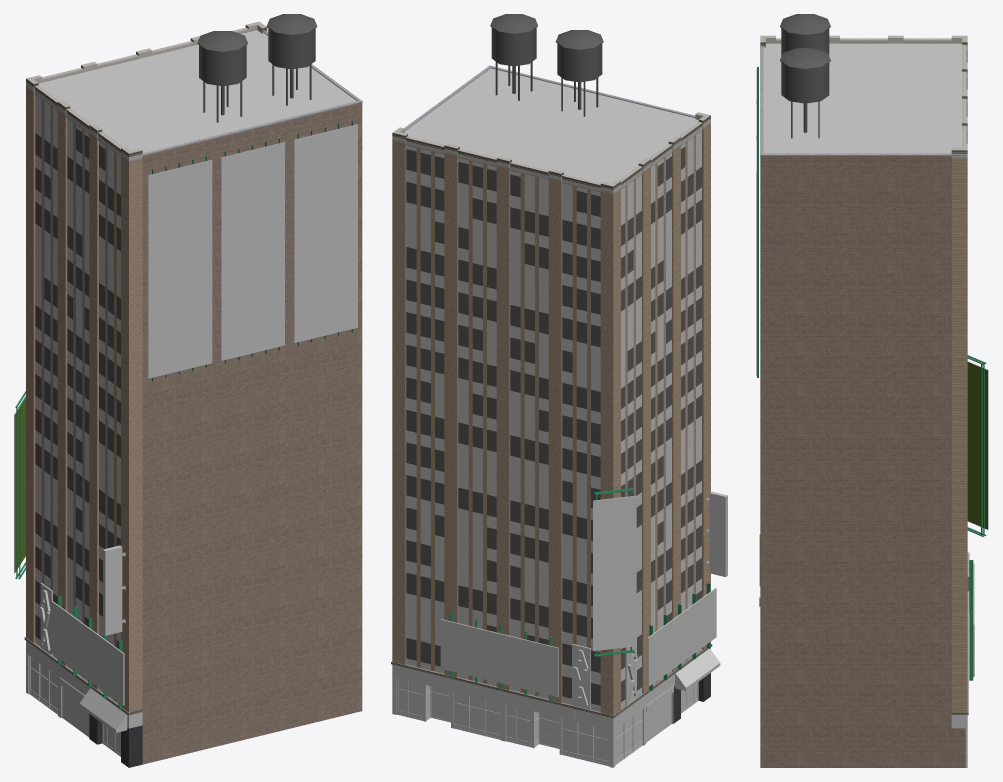
The model's file is mcp_building_31_LOD_1.FBX.
3 renders of one model, left to right at view 1: azimuth 30°, elevation 25°; view 2: azimuth 150°, elevation 25°; view 3: azimuth 270°, elevation 25°, orthographic. The views are drawn at different scales.
Parts seen in each view (by area): view 1: mcp_building_31_walls, mcp_building_31_billboards, mcp_building_31, mcp_building_31_props_03, mcp_building_31_metal, mcp_building_31_roll_up_doors; view 2: mcp_building_31_walls, mcp_building_31, mcp_building_31_billboards, mcp_building_31_props_03, mcp_building_31_metal, mcp_building_31_roll_up_doors; view 3: mcp_building_31_walls, mcp_building_31_billboards, mcp_building_31_props_03, mcp_building_31_metal, mcp_building_31.
Part boxes in pixels (x1,y1,x2,y2): mcp_building_31_walls: (24,21,362,767); mcp_building_31_billboards: (14,120,357,709); mcp_building_31: (26,98,142,756); mcp_building_31_props_03: (197,14,317,122); mcp_building_31_metal: (142,31,362,155); mcp_building_31_roll_up_doors: (62,686,89,737); mcp_building_31_walls: (391,68,712,723); mcp_building_31: (392,134,727,767); mcp_building_31_billboards: (440,488,716,702); mcp_building_31_props_03: (490,14,603,116); mcp_building_31_metal: (404,65,695,130); mcp_building_31_roll_up_doors: (646,694,671,742); mcp_building_31_walls: (759,35,968,767); mcp_building_31_billboards: (756,67,988,680); mcp_building_31_props_03: (780,14,830,138); mcp_building_31_metal: (760,46,965,155); mcp_building_31: (951,552,969,767).
Bounding box in the file's own units: 2792 × 7234 × 2190.
